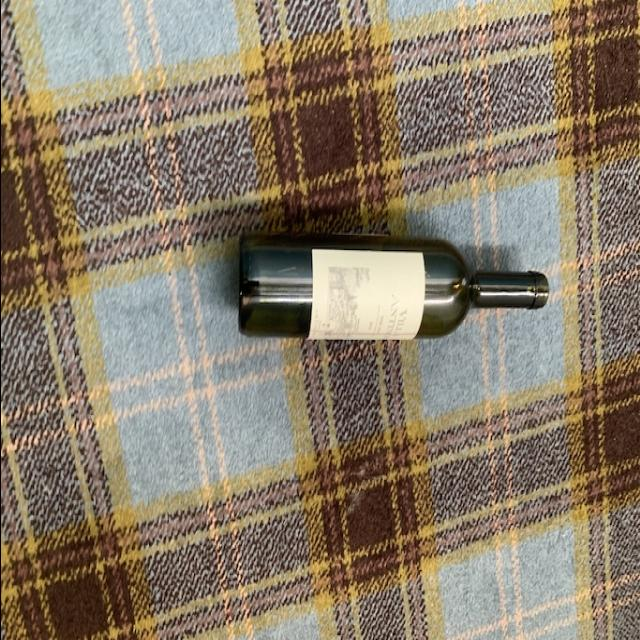Glass Bottle: (234, 226, 547, 348)
